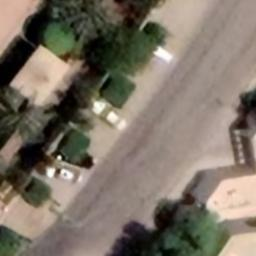sedan: (90, 98, 130, 134), (44, 158, 84, 184)
